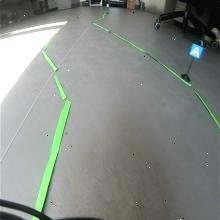crosswalk: (188, 43, 203, 60)
